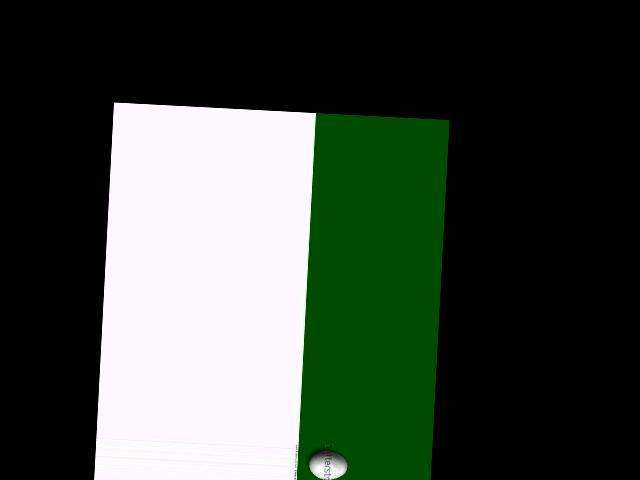egg: (308, 450, 348, 480)
